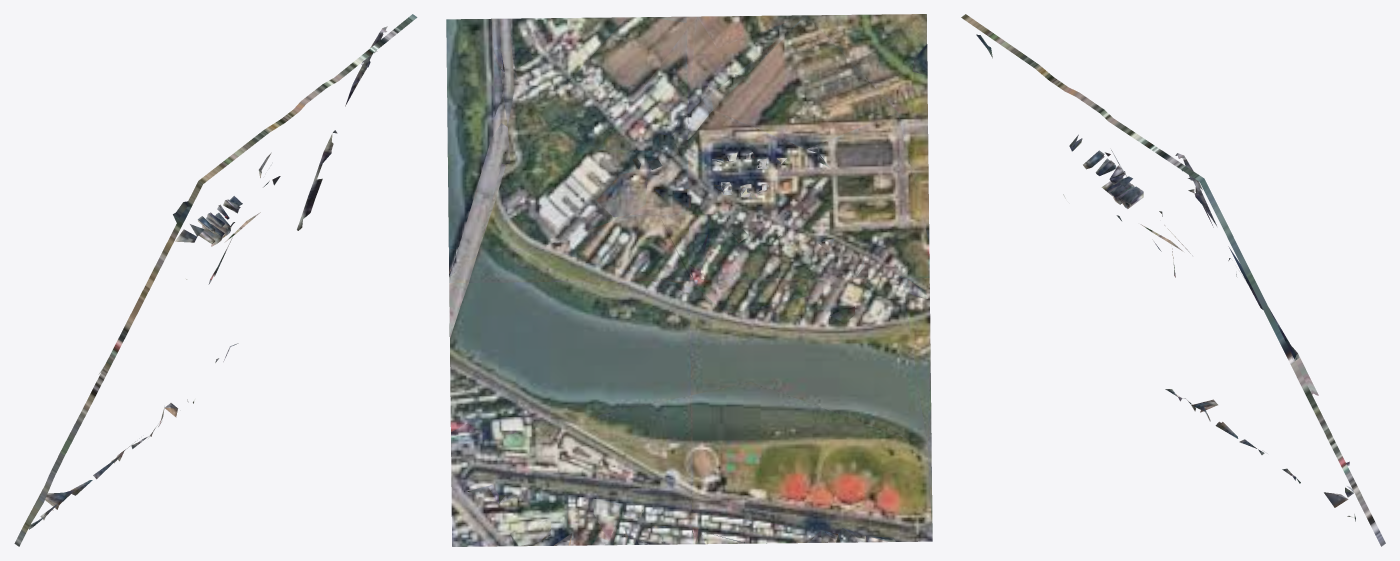
The picture shows the model from 3 angles, left to right: view 1: azimuth 30°, elevation 25°; view 2: azimuth 150°, elevation 25°; view 3: azimuth 270°, elevation 25°; orthographic projection. The views are drawn at different scales.
Size of the model in its own units: 1222 by 1117 by 1031.
Materials: 1 (1 with a texture image).
